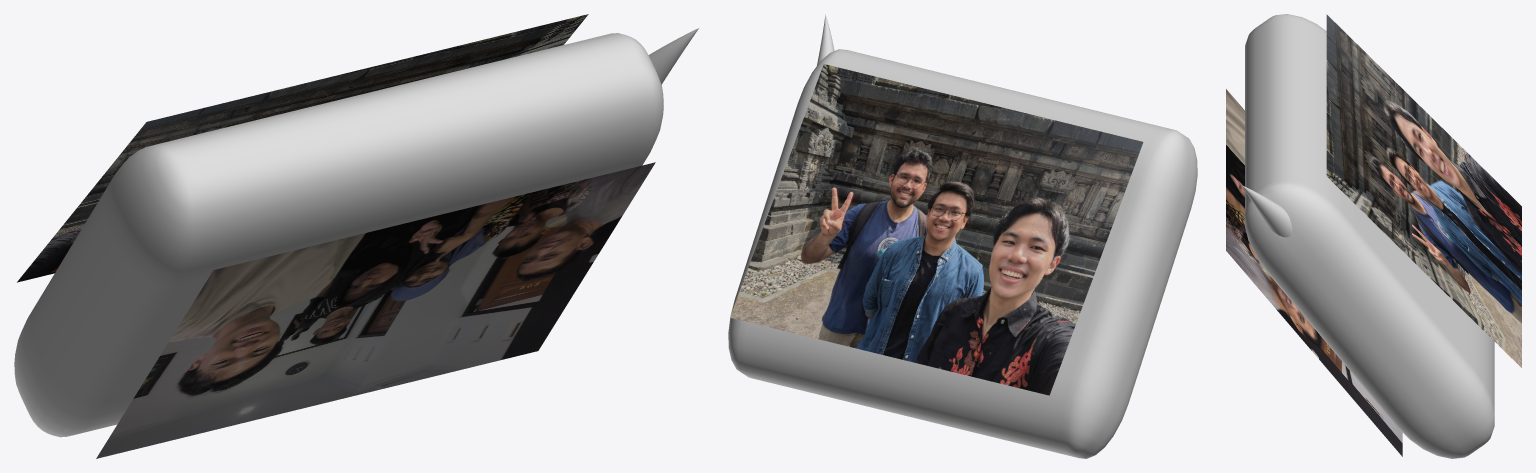
The picture shows the model from 3 angles, left to right: view 1: azimuth 30°, elevation 25°; view 2: azimuth 150°, elevation 25°; view 3: azimuth 270°, elevation 25°; orthographic projection. The views are drawn at different scales.
Visible parts, largest first — view 1: Object_2, ho-musutei, オランダ; view 2: オランダ, Object_2; view 3: Object_2, オランダ, ho-musutei.
Part boxes in pixels (left/top/right/bottom): Object_2: left=14, top=28, right=698, bottom=437; ho-musutei: left=96, top=162, right=655, bottom=458; オランダ: left=17, top=14, right=588, bottom=282; オランダ: left=730, top=64, right=1143, bottom=395; Object_2: left=728, top=14, right=1197, bottom=458; Object_2: left=1242, top=14, right=1494, bottom=458; オランダ: left=1326, top=14, right=1521, bottom=367; ho-musutei: left=1226, top=89, right=1402, bottom=456.
Size of the model in its own units: 4.04 by 2.79 by 2.57.
3 materials, 2 textured.
